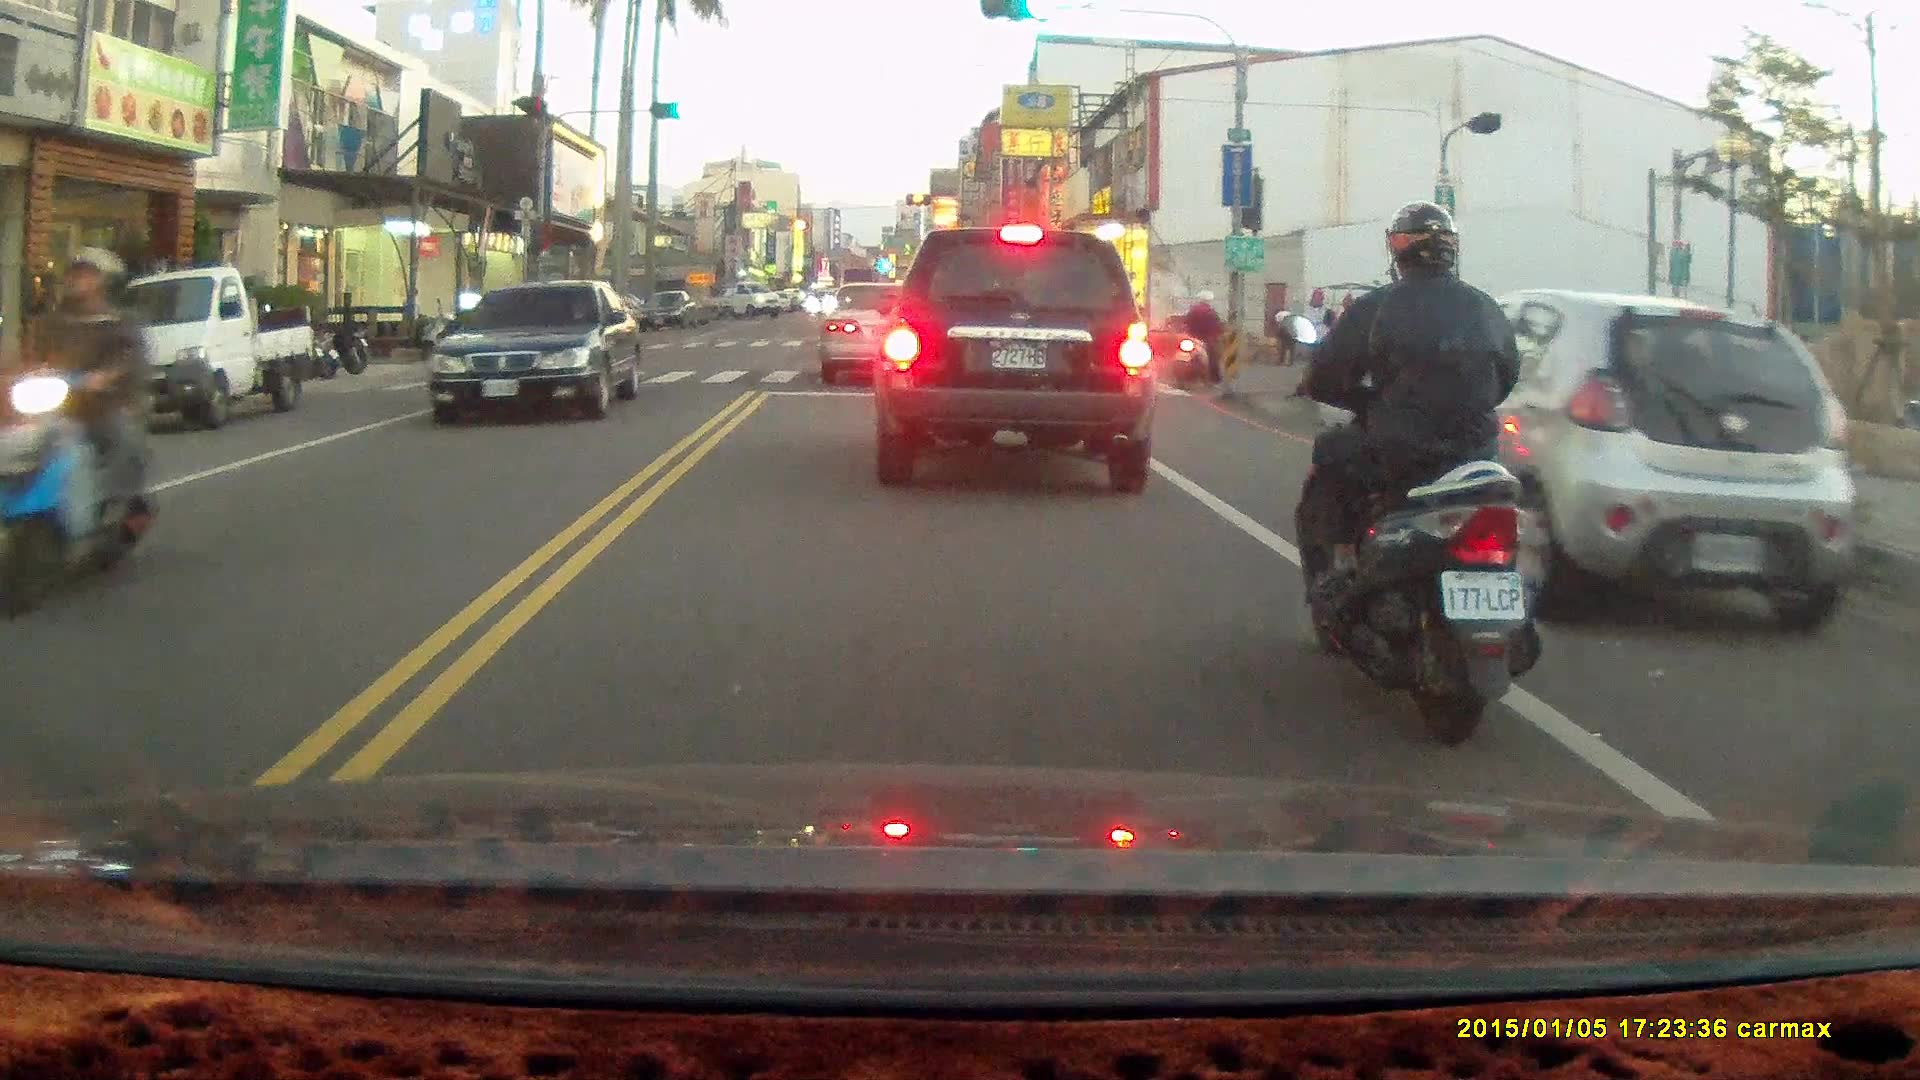pedestrian: (1267, 304, 1296, 368)
rider: (1275, 199, 1544, 747), (5, 242, 155, 614), (1169, 287, 1228, 391)
vehicle: (1398, 292, 1866, 634), (870, 224, 1157, 496), (90, 268, 318, 429), (432, 278, 644, 422), (819, 281, 937, 387)
